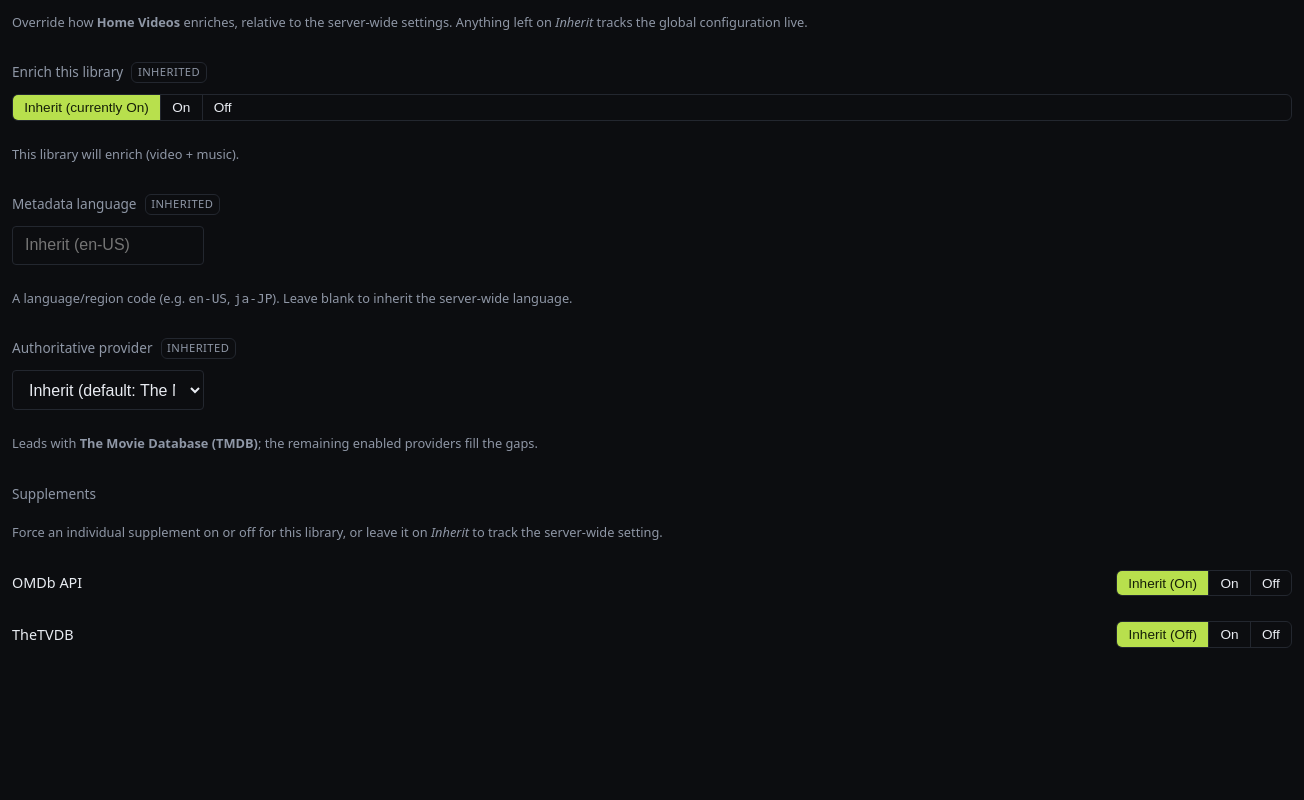
EnrichmentPolicyPanel › selecting Off PUTs enrichEnabled=false and reflects the switched-off view
Expected: the element with test id "enrich-enabled-control" is shown, [12,62,1292,176]
Click the button with test id "enrich-enabled-off".
click(222, 107)  # box [202,95,243,120]
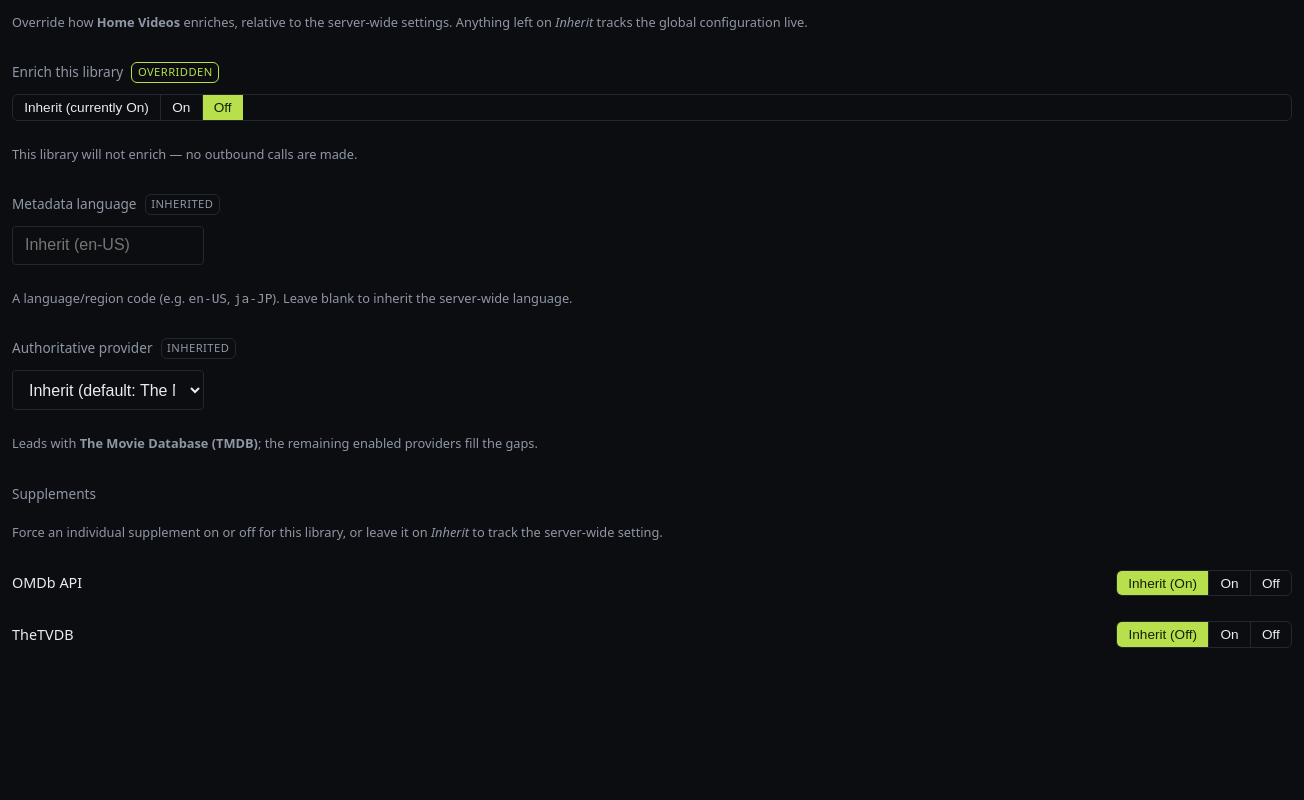
Expected: the element with test id "enrich-enabled-control" shows "Overridden", [138,64,213,79]
Expected: the text with test id "enrich-effective" shows "will not enrich", [12,144,357,162]
